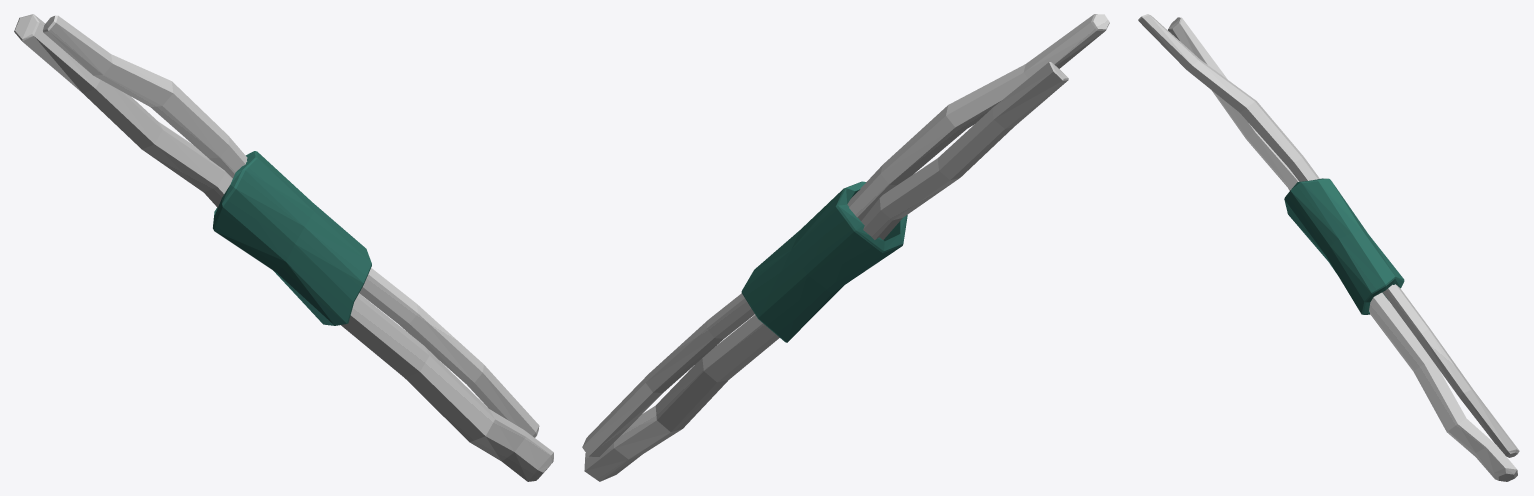
Rendered from CharSkyKid_Prop_Tent_01.glb.
3 views of the same model, side by side, from view 1: azimuth 30°, elevation 25°; view 2: azimuth 150°, elevation 25°; view 3: azimuth 330°, elevation 25° (orthographic). The views are drawn at different scales.
Parts seen in each view (by area): view 1: CharSkyKid_Prop_Tent_01; view 2: CharSkyKid_Prop_Tent_01; view 3: CharSkyKid_Prop_Tent_01.
Boxes of the visible parts, <box> form: CharSkyKid_Prop_Tent_01: <box>14,14,553,481</box>; CharSkyKid_Prop_Tent_01: <box>582,14,1109,481</box>; CharSkyKid_Prop_Tent_01: <box>1138,14,1519,481</box>.
Bounding box in the file's own units: 7.03 × 7.6 × 1.15.
Materials: 1 (1 with a texture image).
